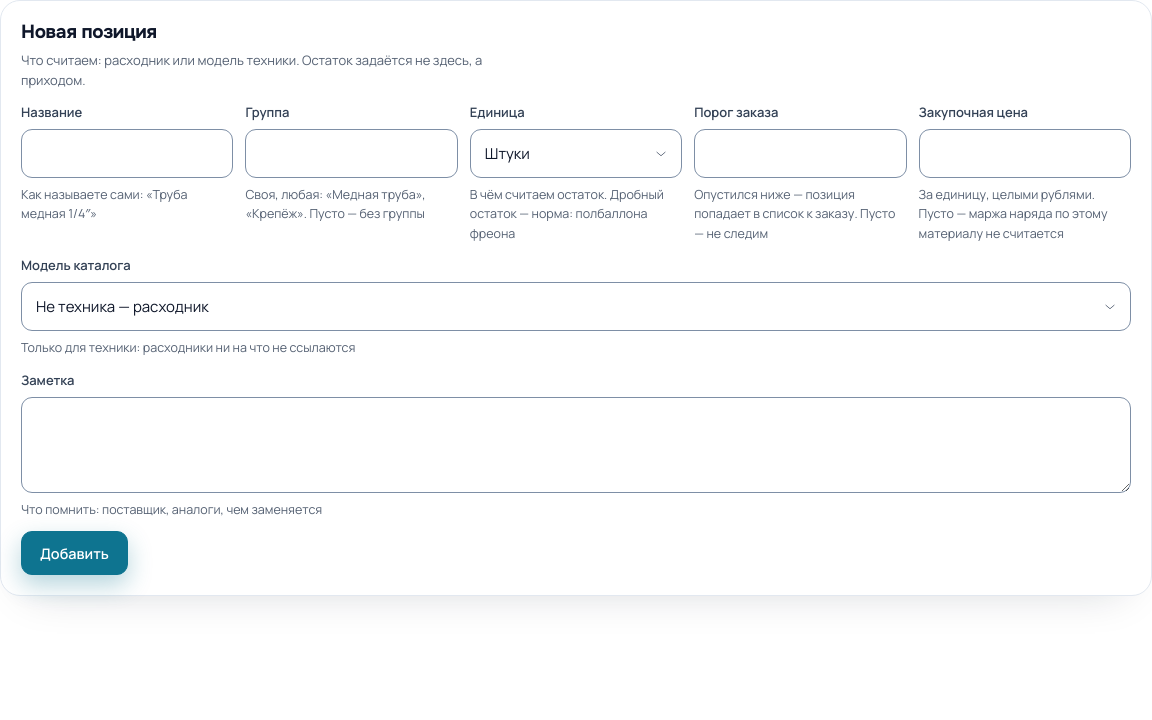
Позиция справочника › пустое название не уезжает на сервер: подсказка приходит сразу
The width and height of the screenshot is (1152, 720).
Click the button "Добавить": [74, 553] box x1=21 y1=531 x2=128 y2=575
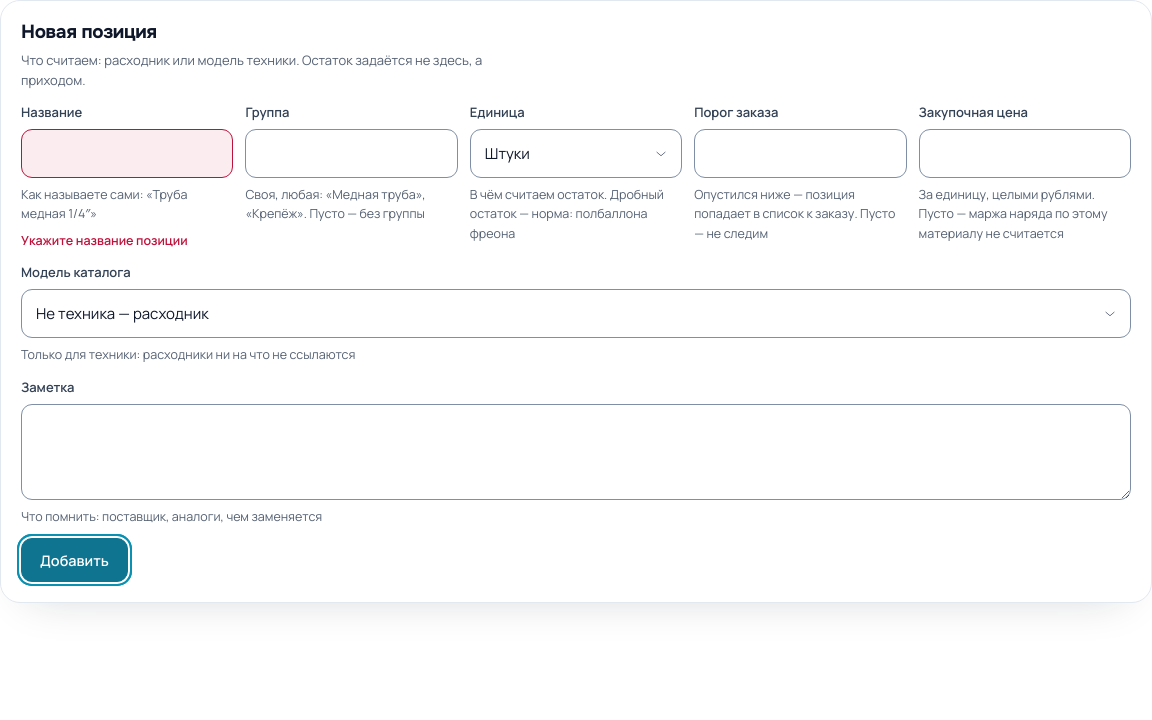
Result: the text "Укажите название позиции" is shown at x1=21 y1=232 x2=188 y2=249
